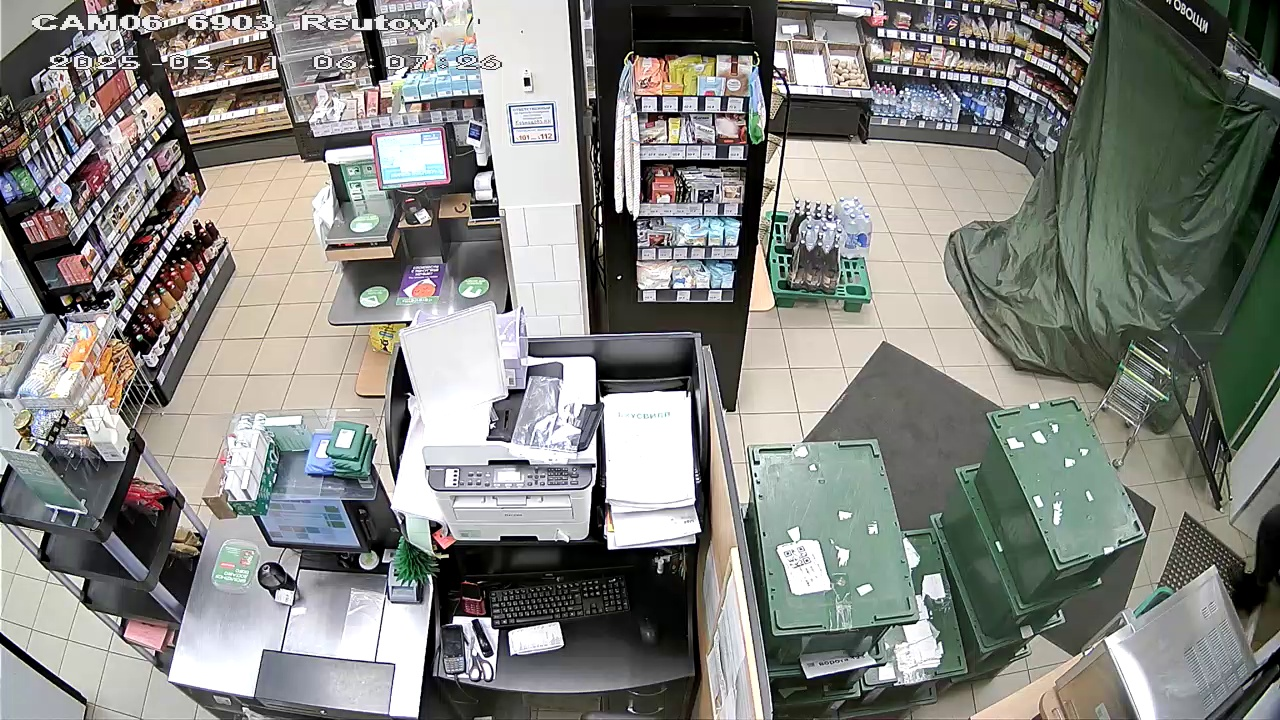dome: (953, 3, 1272, 405)
